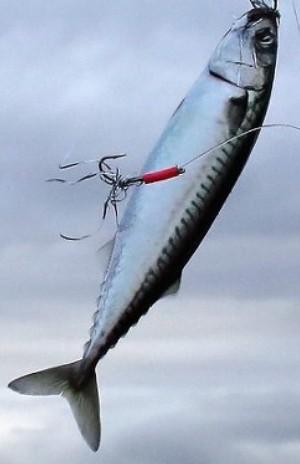fish: (9, 0, 279, 449)
